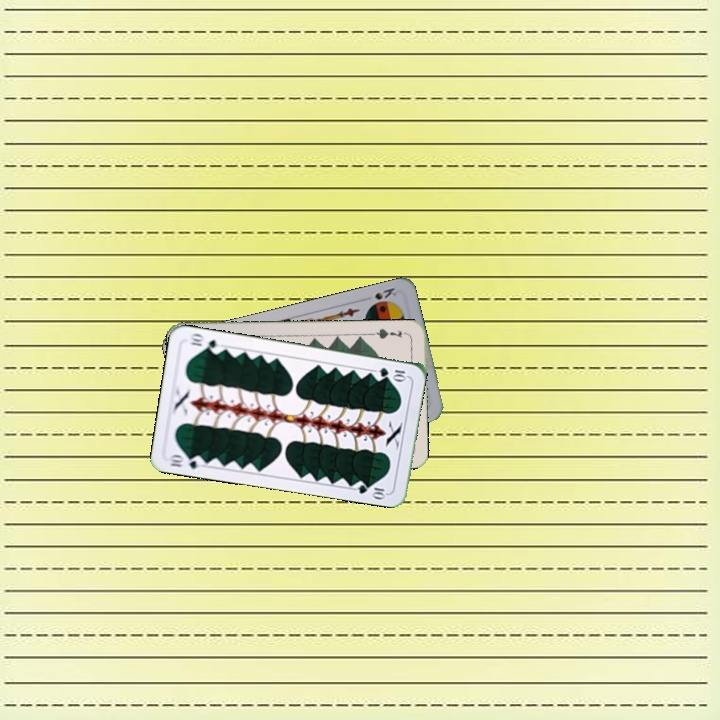G10: (165, 450, 206, 471), (375, 363, 410, 382)
G7: (370, 324, 410, 342)
SK: (370, 284, 399, 302)
